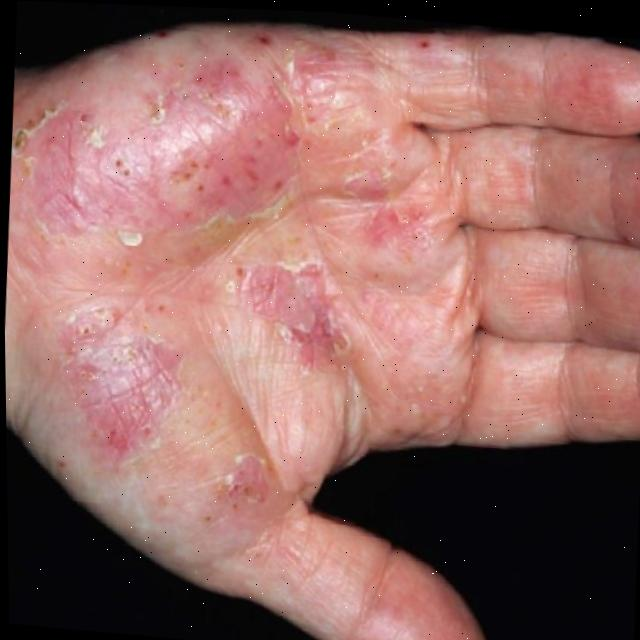Eczema: (0, 23, 640, 595)
